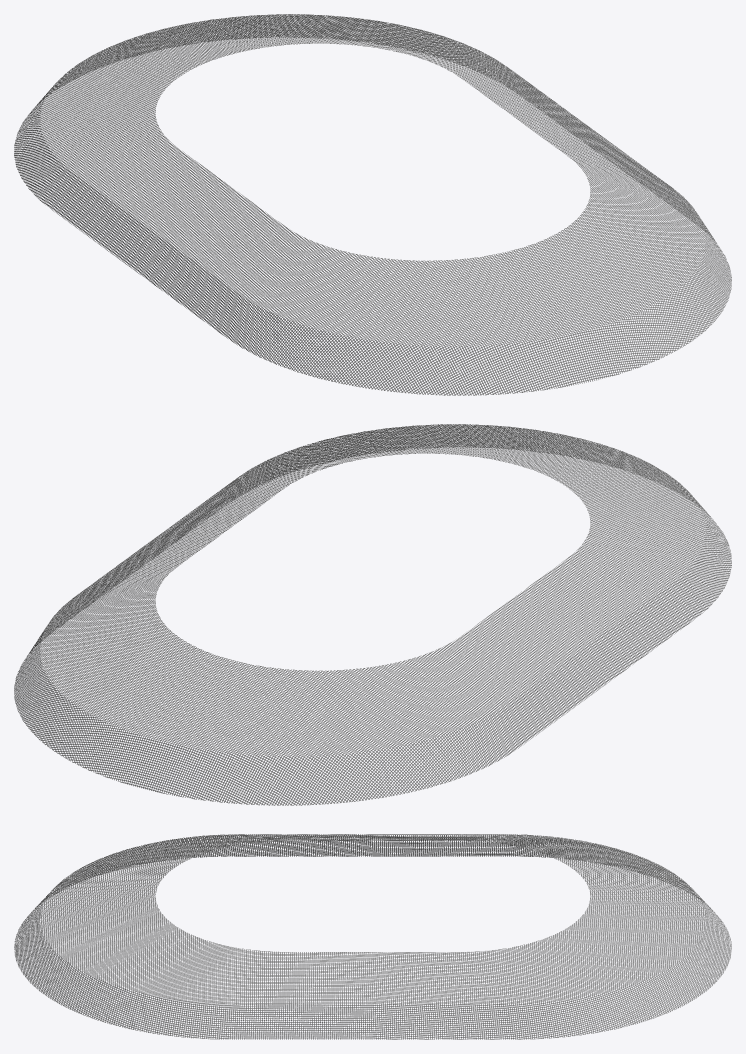
Rendered from TrackCage.fbx.
3 views of the same model, one above another, from view 1: azimuth 30°, elevation 25°; view 2: azimuth 150°, elevation 25°; view 3: azimuth 270°, elevation 25° (orthographic). The views are drawn at different scales.
Visible parts, largest first — view 1: SR_Env_TrackLoop; view 2: SR_Env_TrackLoop; view 3: SR_Env_TrackLoop.
Part boxes in pixels (x1,y1,x2,y2): SR_Env_TrackLoop: (14,14,731,395); SR_Env_TrackLoop: (14,424,731,805); SR_Env_TrackLoop: (14,834,731,1039).
Bounding box in the file's own units: 122 × 16.01 × 202.
